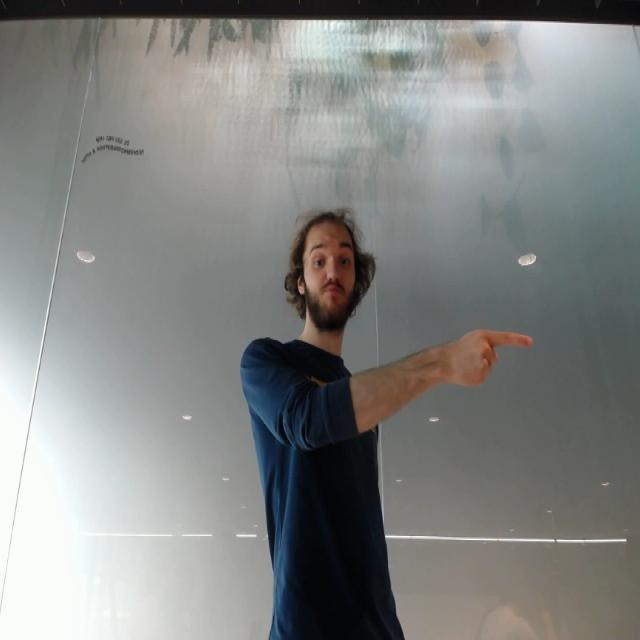right: (441, 313, 544, 391)
